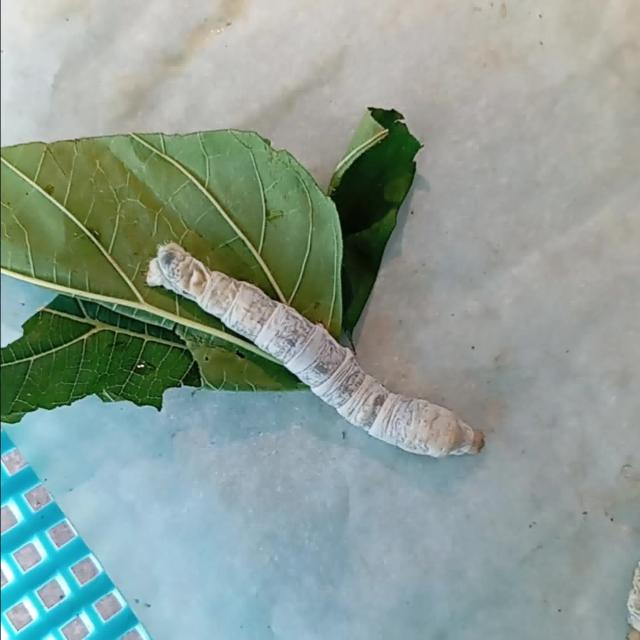Grasserie: (130, 230, 495, 471)
